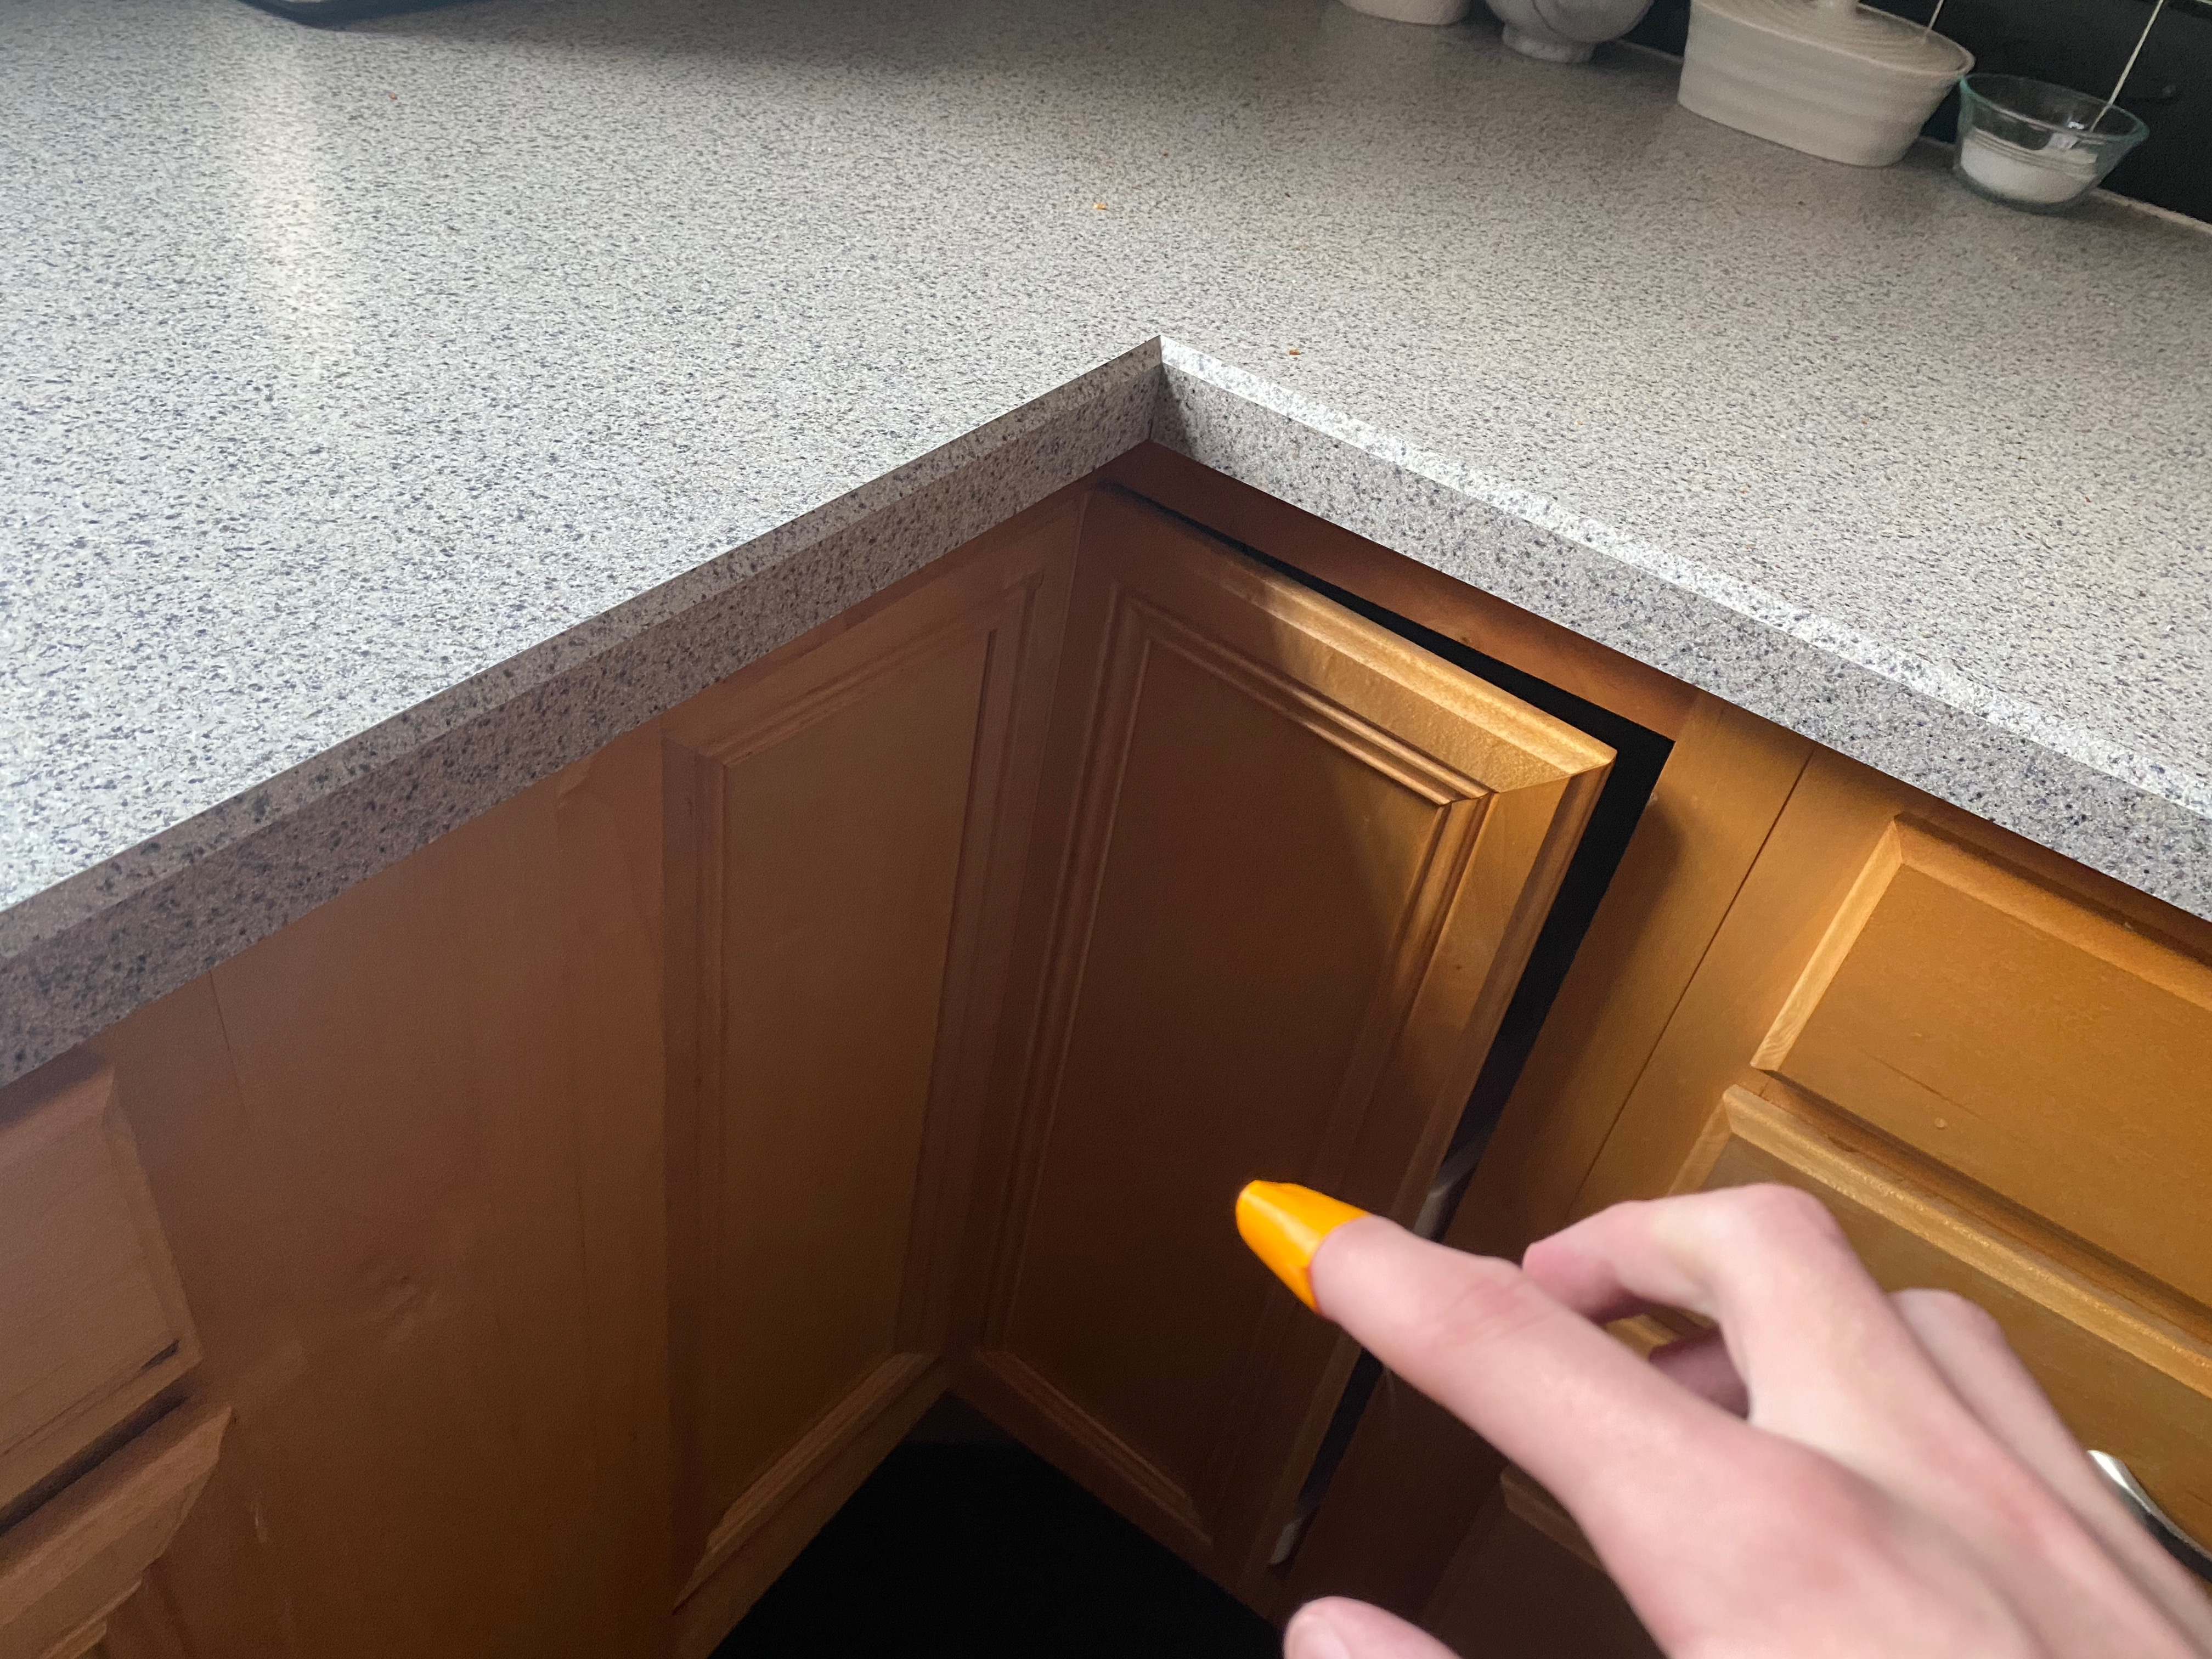fingertip: (1205, 1166, 1411, 1335)
